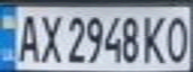2: (63, 11, 87, 64)
4: (103, 11, 124, 64)
8: (121, 12, 142, 64)
9: (84, 11, 106, 64)
A: (12, 10, 42, 63)
K: (139, 11, 169, 64)
O: (163, 11, 193, 64)
X: (36, 10, 63, 64)
